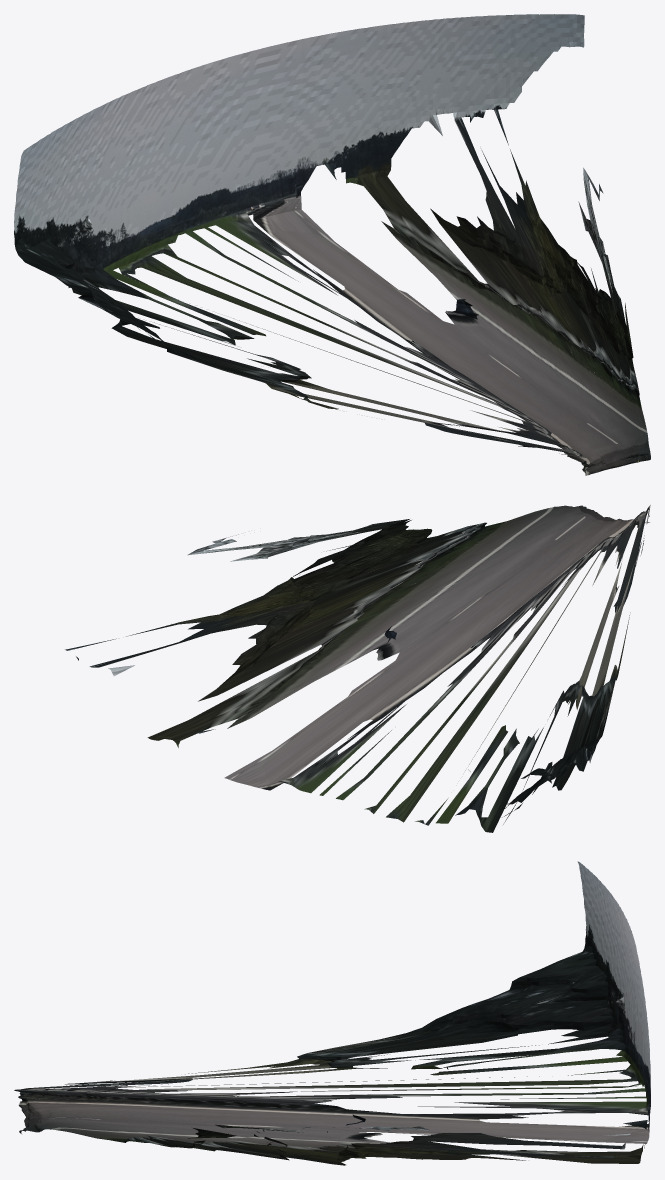
The picture shows the model from 3 angles, top to bottom: view 1: azimuth 30°, elevation 25°; view 2: azimuth 150°, elevation 25°; view 3: azimuth 270°, elevation 25°; orthographic projection. The views are drawn at different scales.
Visible parts, largest first — view 1: defaultobject; view 2: defaultobject; view 3: defaultobject.
Part boxes in pixels (x1=…): defaultobject: x1=14, y1=14, x2=650, y2=475; defaultobject: x1=65, y1=505, x2=650, y2=832; defaultobject: x1=14, y1=861, x2=650, y2=1165.
Bounding box in the file's own units: 40.94 × 12.76 × 44.87.
Materials: 1 (1 with a texture image).
